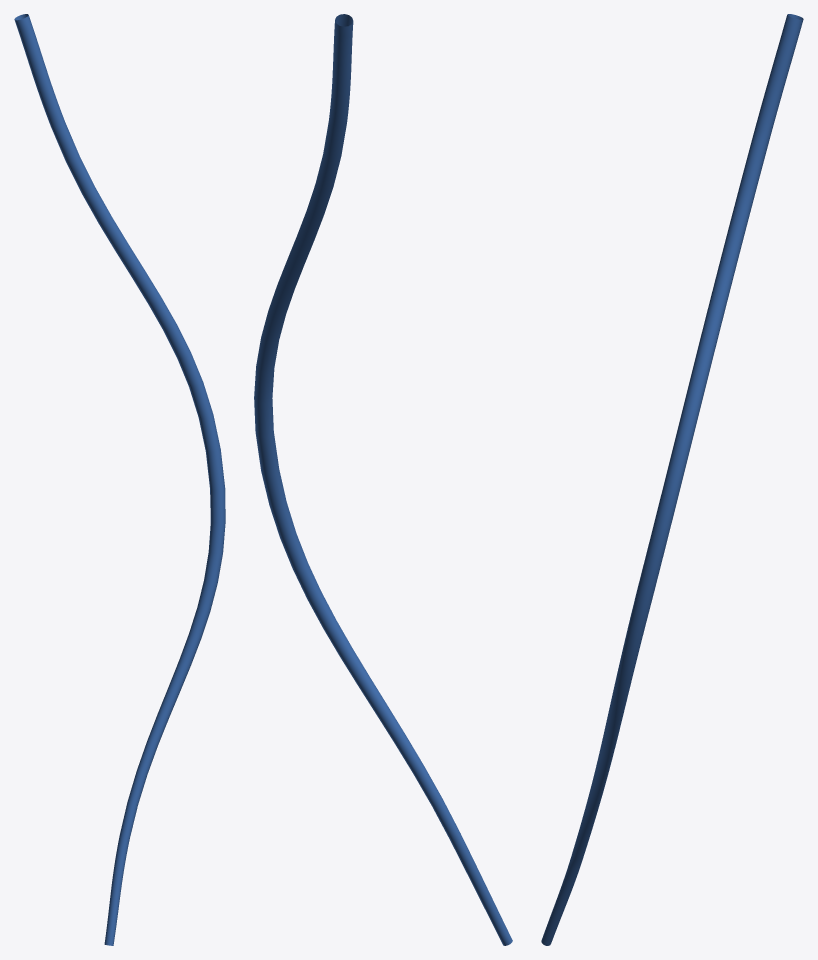
The picture shows the model from 3 angles, left to right: view 1: azimuth 30°, elevation 25°; view 2: azimuth 150°, elevation 25°; view 3: azimuth 270°, elevation 25°; orthographic projection. The views are drawn at different scales.
Parts seen in each view (by area): view 1: 左侧眼上静脉; view 2: 左侧眼上静脉; view 3: 左侧眼上静脉.
Part boxes in pixels (x1,y1,x2,y2): 左侧眼上静脉: [14, 14, 225, 945]; 左侧眼上静脉: [254, 14, 512, 945]; 左侧眼上静脉: [541, 14, 803, 945].
Bounding box in the file's own units: 0.0182 × 0.09 × 0.0227.
